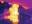Hotspot: (7, 4, 18, 23)
